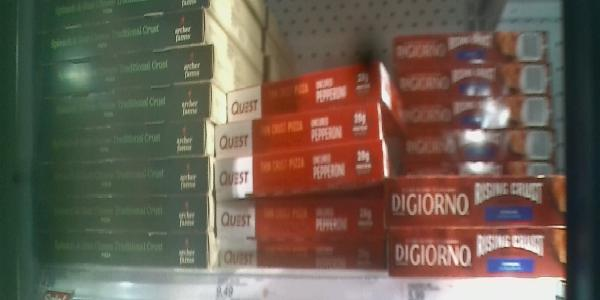pizza2: (387, 175, 568, 226), (214, 144, 384, 197), (222, 62, 384, 116), (213, 101, 383, 148), (31, 9, 205, 54), (389, 228, 565, 272), (31, 41, 216, 82), (32, 233, 211, 273), (39, 119, 209, 155), (214, 202, 384, 238), (215, 236, 386, 269), (36, 90, 217, 121), (38, 197, 207, 230), (36, 159, 207, 191), (391, 30, 553, 62), (393, 62, 552, 94), (405, 94, 552, 125), (406, 133, 556, 159), (402, 159, 555, 177)
